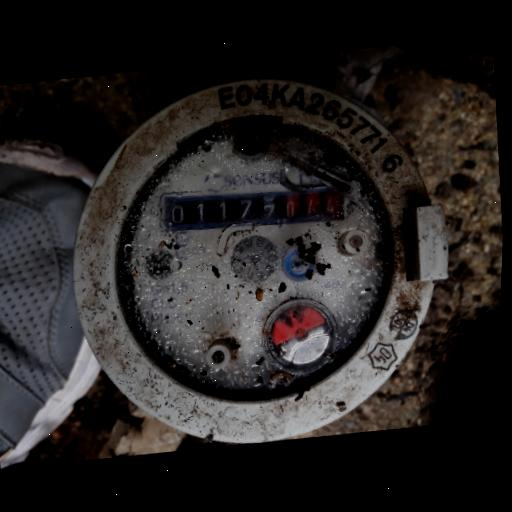0: (280, 192, 302, 221), (167, 201, 190, 228)
1: (187, 198, 213, 226), (211, 196, 234, 225)
4: (300, 192, 321, 219), (321, 190, 340, 217)
7: (230, 196, 259, 223), (255, 193, 281, 223)
border_water_meter_number: (157, 175, 353, 242)
